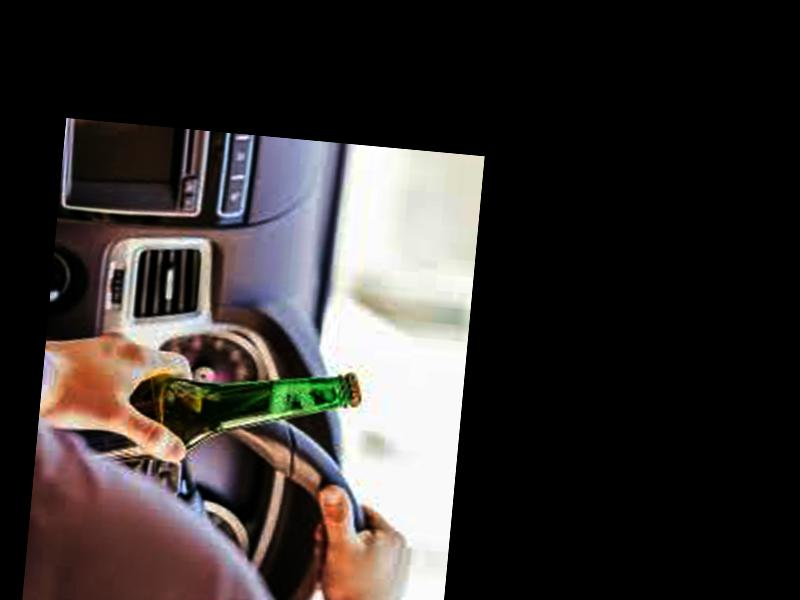Beer: (48, 345, 365, 488)
